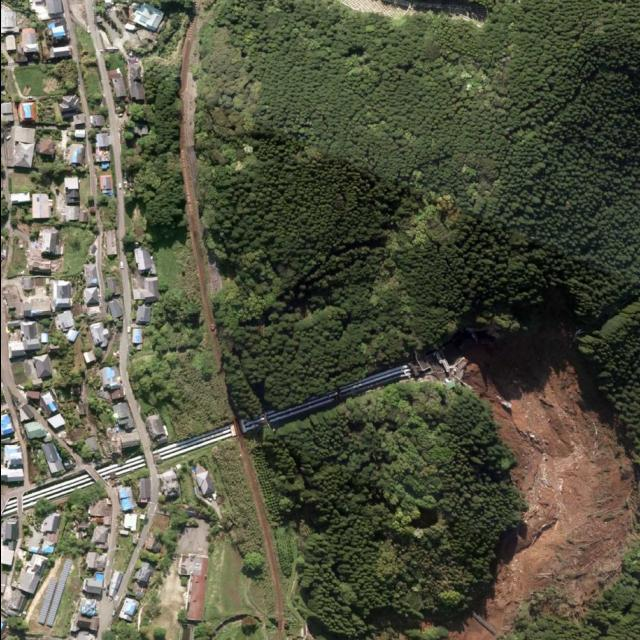landslide: (449, 299, 638, 640)
